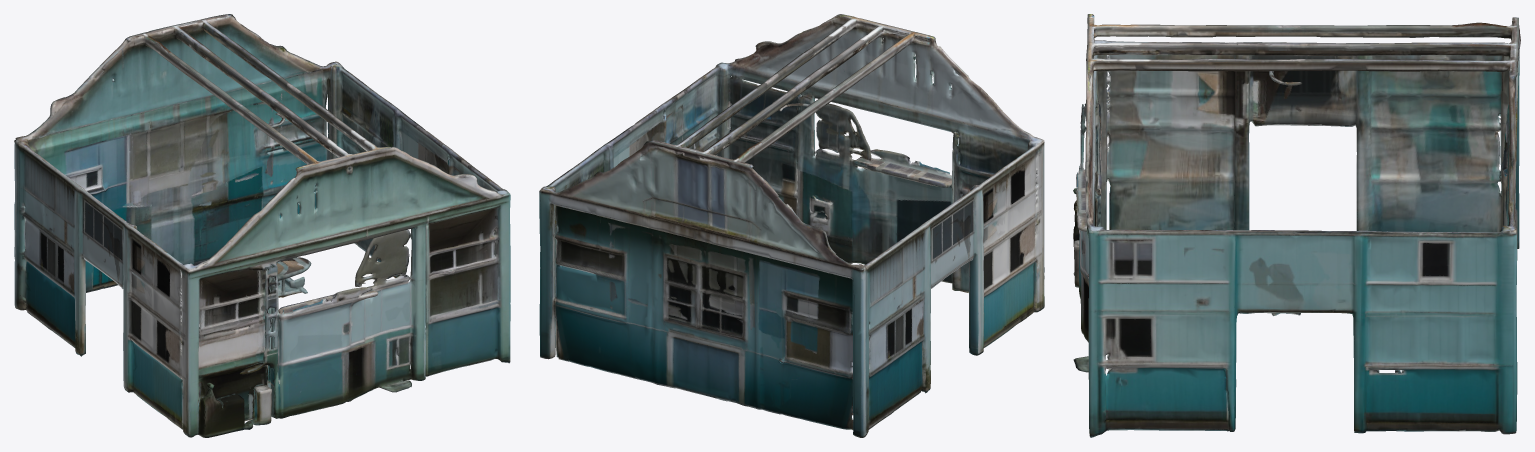
Rendered from asset.glb.
3 renders of one model, left to right at view 1: azimuth 30°, elevation 25°; view 2: azimuth 150°, elevation 25°; view 3: azimuth 270°, elevation 25°, orthographic. The views are drawn at different scales.
Bounding box in the file's own units: 2 × 1.46 × 1.96.
Materials: 1 (1 with a texture image).
